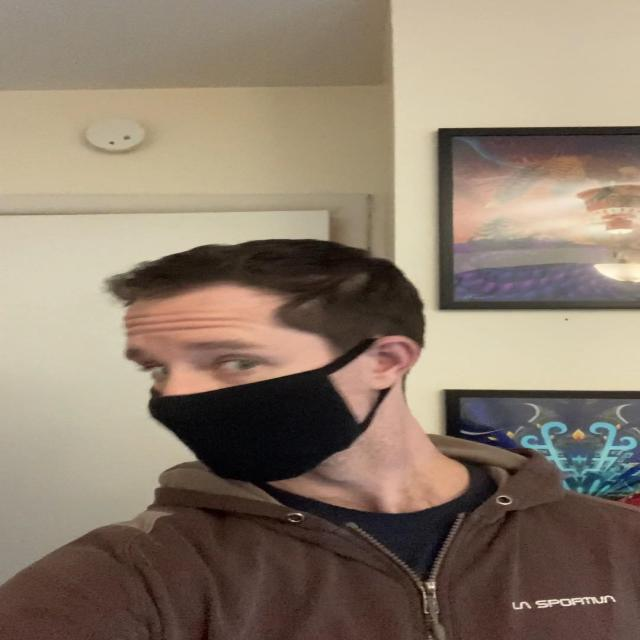no-helmet: (120, 266, 422, 502)
